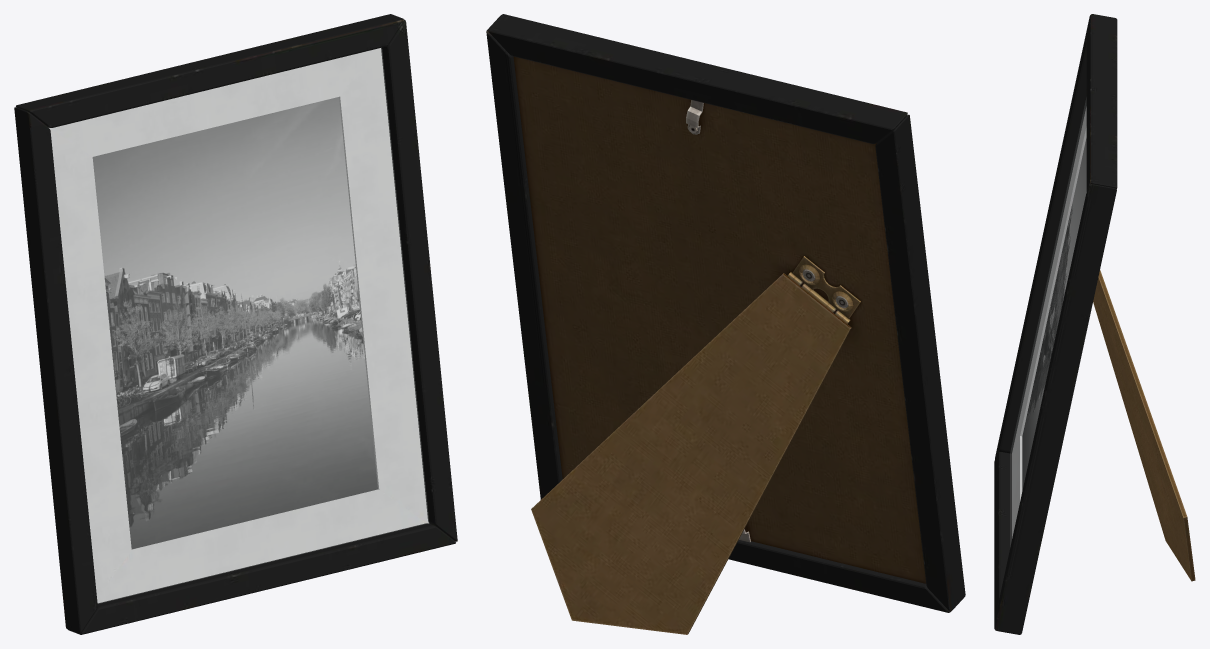
The model's file is standing-picture-frame-01.glb.
3 views of the same model, side by side, from view 1: azimuth 30°, elevation 25°; view 2: azimuth 150°, elevation 25°; view 3: azimuth 270°, elevation 25° (orthographic). The views are drawn at different scales.
Visible parts, largest first — view 1: standing_picture_frame_01; view 2: standing_picture_frame_01; view 3: standing_picture_frame_01.
Part boxes in pixels (left/top/right/bottom): standing_picture_frame_01: left=14, top=14, right=457, bottom=634; standing_picture_frame_01: left=486, top=14, right=965, bottom=634; standing_picture_frame_01: left=994, top=14, right=1195, bottom=634.
Bounding box in the file's own units: 0.2008 × 0.2497 × 0.1003.
3 materials, 2 textured.
